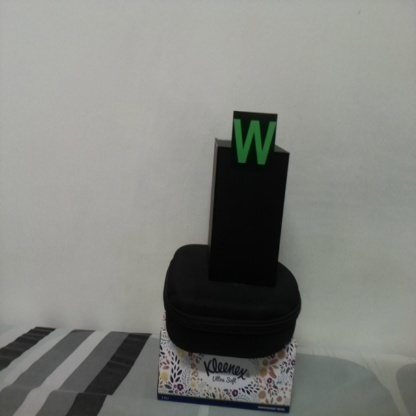id_12: (231, 111, 278, 168)
